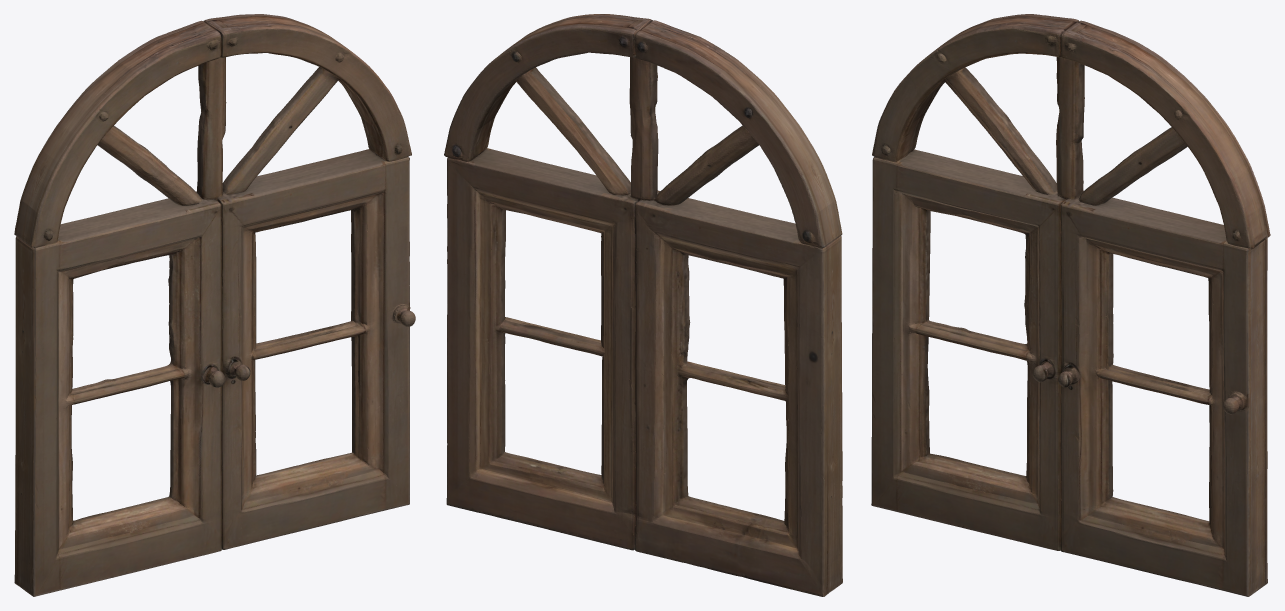
File: Rustic_Arch_Window_Fr_0613155503_texture.fbx
3 views of the same model, side by side, from view 1: azimuth 30°, elevation 25°; view 2: azimuth 150°, elevation 25°; view 3: azimuth 330°, elevation 25° (orthographic).
Parts seen in each view (by area): view 1: temp; view 2: temp; view 3: temp.
Part boxes in pixels (x1,y1,x2,y2): temp: (14, 14, 415, 596); temp: (444, 14, 842, 596); temp: (871, 14, 1270, 596).
Size of the model in its own units: 154 by 200 by 23.35.
Materials: 1 (1 with a texture image).
